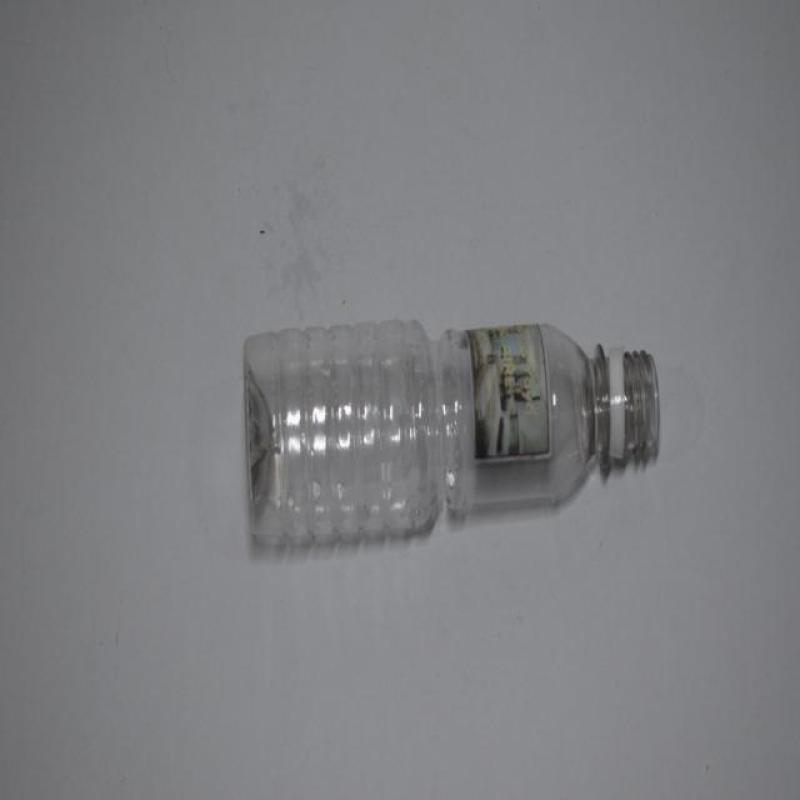botella: (243, 314, 662, 544)
